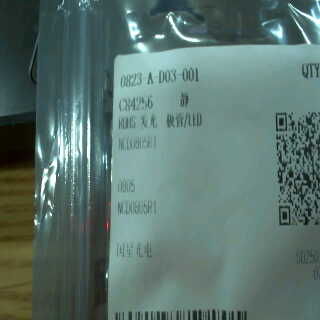LED: (136, 109, 211, 137)
